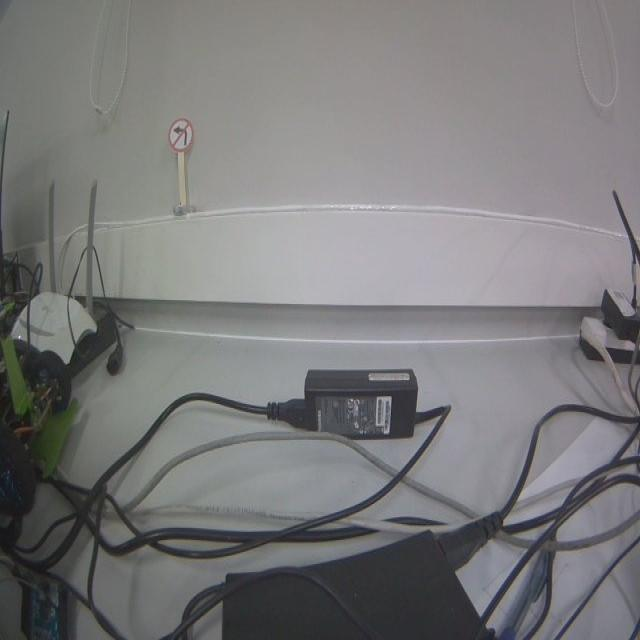Dilarang Belok Kiri: (169, 118, 193, 152)
